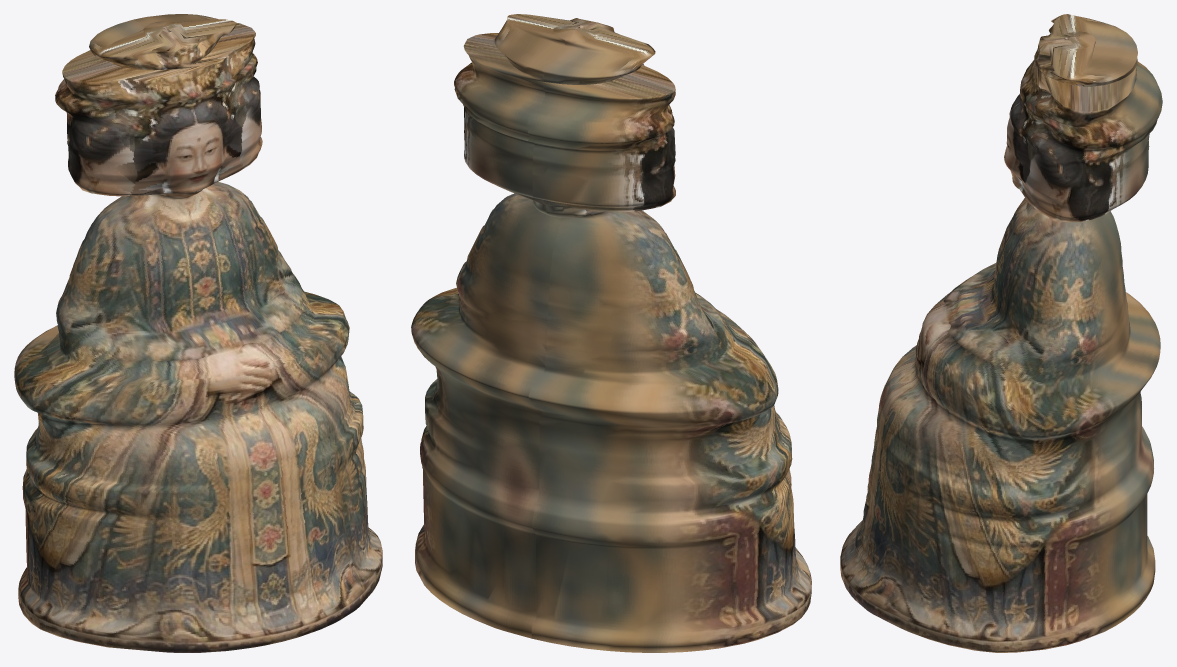
The model's file is mother.glb.
3 renders of one model, left to right at view 1: azimuth 30°, elevation 25°; view 2: azimuth 150°, elevation 25°; view 3: azimuth 270°, elevation 25°, orthographic. The views are drawn at different scales.
Visible parts, largest first — view 1: mother; view 2: mother; view 3: mother.
Part boxes in pixels (x1=…): mother: x1=14, y1=14, x2=382, y2=652; mother: x1=411, y1=14, x2=811, y2=652; mother: x1=840, y1=14, x2=1162, y2=652.
Size of the model in its own units: 0.6597 by 1 by 0.5454.
1 material, 1 textured.
